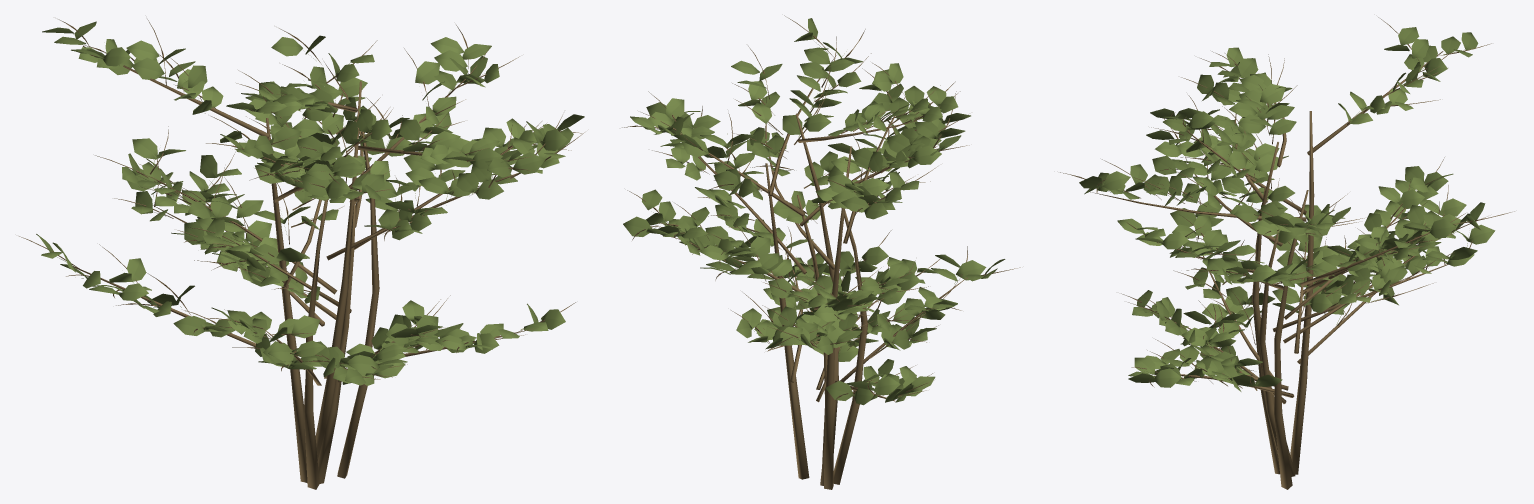
Rendered from Lentisque_1_LOD1.fbx.
The picture shows the model from 3 angles, left to right: view 1: azimuth 30°, elevation 25°; view 2: azimuth 150°, elevation 25°; view 3: azimuth 270°, elevation 25°; orthographic projection. The views are drawn at different scales.
Parts seen in each view (by area): view 1: Lentisque_1_LOD1; view 2: Lentisque_1_LOD1; view 3: Lentisque_1_LOD1.
Boxes of the visible parts, left/top/right/bottom form: Lentisque_1_LOD1: left=19, top=19, right=584, bottom=489; Lentisque_1_LOD1: left=622, top=15, right=1020, bottom=489; Lentisque_1_LOD1: left=1060, top=17, right=1514, bottom=489.
Size of the model in its own units: 201 by 188 by 205.
